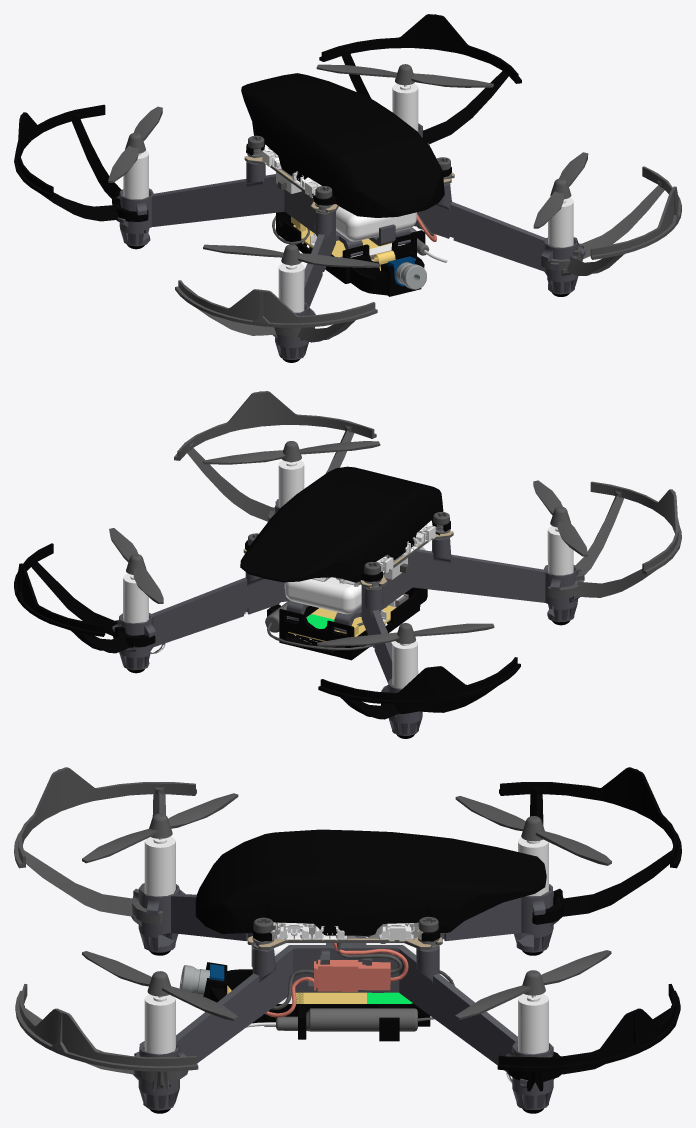
The model's file is PlutoX.opt.glb.
3 views of the same model, one above another, from view 1: azimuth 30°, elevation 25°; view 2: azimuth 150°, elevation 25°; view 3: azimuth 270°, elevation 25° (orthographic). The views are drawn at different scales.
Visible parts, largest first — view 1: object 18, object 36, object 47, object 45, object 46, object 48, object 61, object 13, Body4.002, Body4.001, object 44, Body4.003 (+6 smaller); view 2: object 36, object 18, object 46, object 48, object 47, object 45, object 61, object 13, Body4, Body4.003, object 43, Body4.001 (+5 smaller); view 3: object 18, object 36, object 46, object 47, object 45, object 48, object 61, object 3, object 15, Body4.003, object 41, object 44 (+9 smaller).
Boxes of the visible parts, left/top/right/bottom form: object 18: left=241, top=73, right=451, bottom=217; object 36: left=116, top=123, right=585, bottom=359; object 47: left=175, top=280, right=377, bottom=342; object 45: left=319, top=14, right=521, bottom=144; object 46: left=14, top=104, right=148, bottom=221; object 48: left=541, top=166, right=681, bottom=275; object 61: left=276, top=211, right=425, bottom=296; object 13: left=336, top=206, right=416, bottom=241; Body4.002: left=316, top=64, right=493, bottom=87; Body4.001: left=203, top=244, right=380, bottom=267; object 44: left=278, top=263, right=304, bottom=312; Body4.003: left=108, top=106, right=162, bottom=182; object 36: left=112, top=499, right=584, bottom=735; object 18: left=240, top=466, right=450, bottom=582; object 46: left=318, top=657, right=520, bottom=719; object 48: left=174, top=391, right=376, bottom=521; object 47: left=547, top=481, right=681, bottom=598; object 45: left=14, top=543, right=155, bottom=653; object 61: left=267, top=587, right=427, bottom=660; object 13: left=284, top=577, right=361, bottom=614; Body4: left=203, top=441, right=380, bottom=464; Body4.003: left=317, top=623, right=494, bottom=646; object 43: left=392, top=641, right=418, bottom=688; Body4.001: left=533, top=480, right=587, bottom=556; object 18: left=195, top=829, right=546, bottom=941; object 36: left=131, top=883, right=558, bottom=1110; object 46: left=499, top=767, right=681, bottom=924; object 47: left=14, top=767, right=196, bottom=924; object 45: left=497, top=984, right=680, bottom=1091; object 48: left=15, top=984, right=198, bottom=1091; object 61: left=203, top=962, right=430, bottom=1041; object 3: left=276, top=1008, right=417, bottom=1031; object 15: left=317, top=959, right=390, bottom=991; Body4.003: left=455, top=796, right=611, bottom=865; object 41: left=144, top=994, right=175, bottom=1054; object 44: left=144, top=836, right=175, bottom=896.
Bounding box in the file's own units: 0.1635 × 0.0487 × 0.1644.
